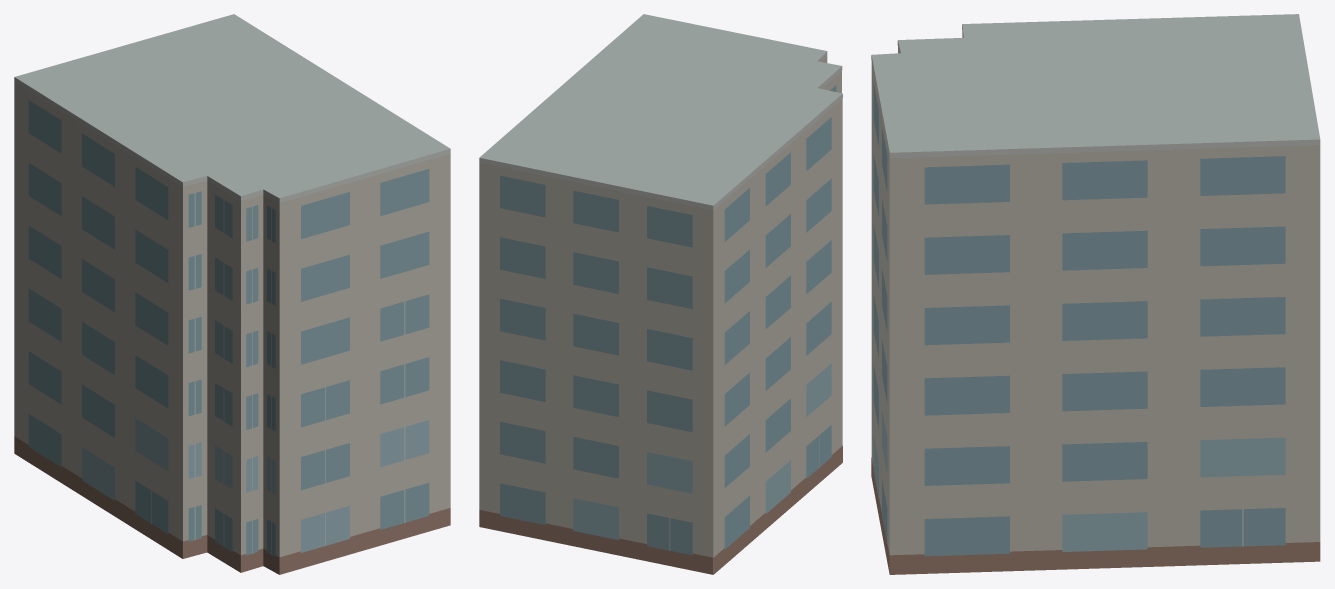
The model's file is survey-upis-32909326.glb.
3 renders of one model, left to right at view 1: azimuth 30°, elevation 25°; view 2: azimuth 150°, elevation 25°; view 3: azimuth 270°, elevation 25°, orthographic. The views are drawn at different scales.
Visible parts, largest first — view 1: survey-upis-32909326.tmp; view 2: survey-upis-32909326.tmp; view 3: survey-upis-32909326.tmp.
Boxes of the visible parts, left/top/right/bottom form: survey-upis-32909326.tmp: left=14, top=14, right=450, bottom=574; survey-upis-32909326.tmp: left=479, top=14, right=842, bottom=574; survey-upis-32909326.tmp: left=871, top=14, right=1320, bottom=574.
Bounding box in the file's own units: 13.34 × 18.9 × 18.22.
